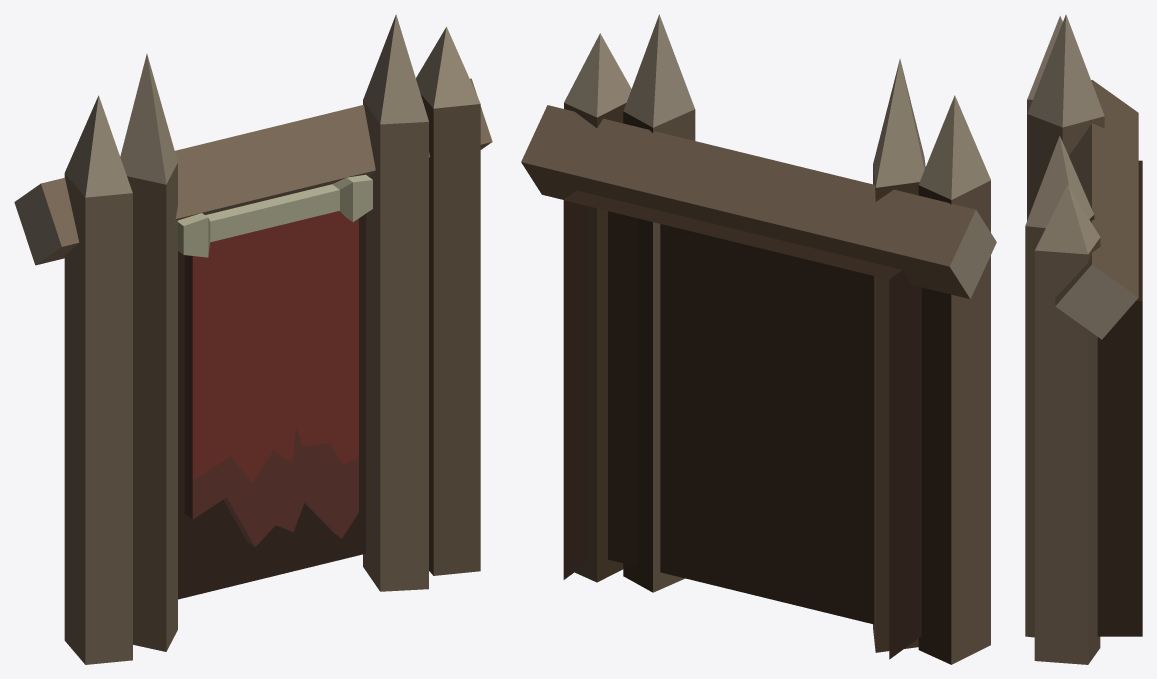
The model's file is SF_Bld_Goblin_Door_01.fbx.
3 views of the same model, side by side, from view 1: azimuth 30°, elevation 25°; view 2: azimuth 150°, elevation 25°; view 3: azimuth 270°, elevation 25° (orthographic). The views are drawn at different scales.
Parts seen in each view (by area): view 1: SF_Bld_Goblin_Door_01; view 2: SF_Bld_Goblin_Door_01; view 3: SF_Bld_Goblin_Door_01.
Part boxes in pixels (left/top/right/bottom): SF_Bld_Goblin_Door_01: left=14, top=14, right=492, bottom=664; SF_Bld_Goblin_Door_01: left=521, top=14, right=996, bottom=664; SF_Bld_Goblin_Door_01: left=1025, top=14, right=1142, bottom=664.
Bounding box in the file's own units: 3.92 × 5.06 × 1.05.
